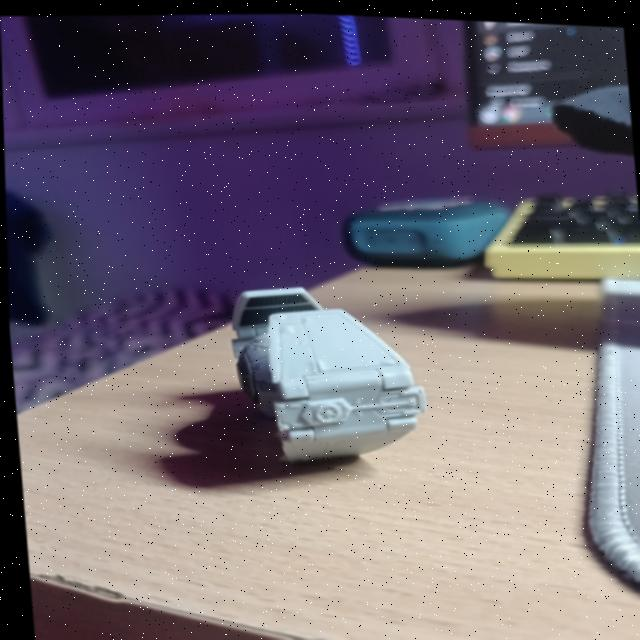tie fighter: (230, 285, 424, 458)
